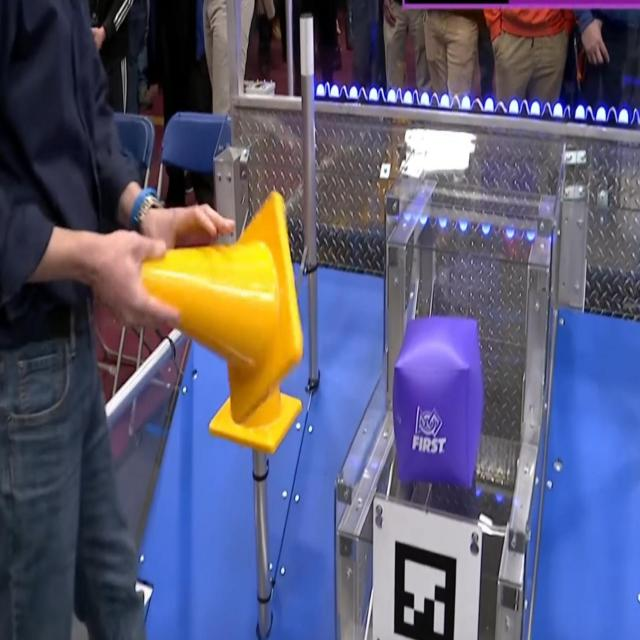frc_cone: (138, 190, 304, 429), (205, 387, 304, 456)
frc_cube: (394, 318, 485, 488)
